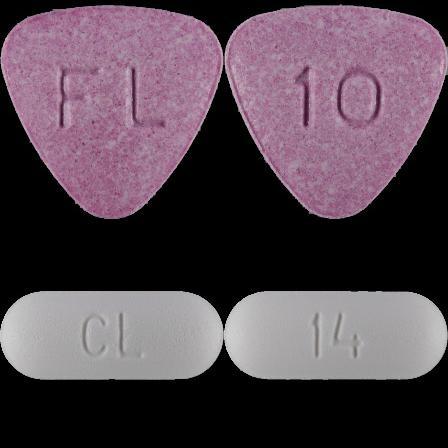68151-5135: (0, 0, 224, 224)
